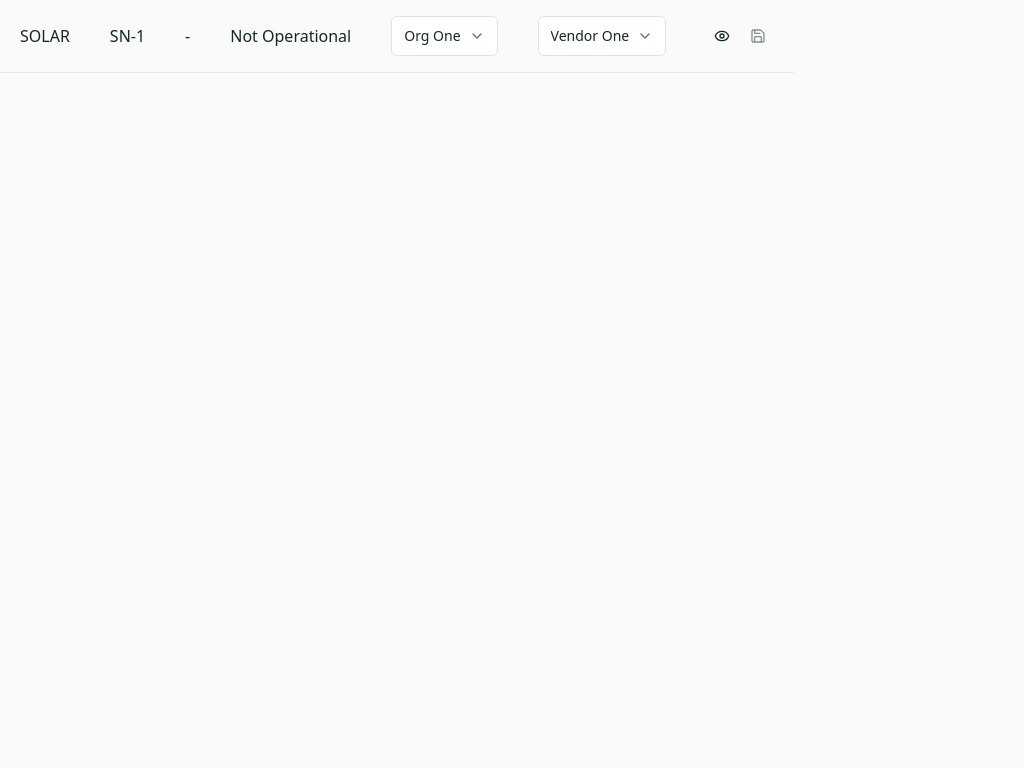
Test: AssetRow › switching the organization clears the drafted vendor selection and loads the new org's own vendors
Click the button with aria-label "Vendor Organization": x=444, y=36 x1=391 y1=16 x2=498 y2=56
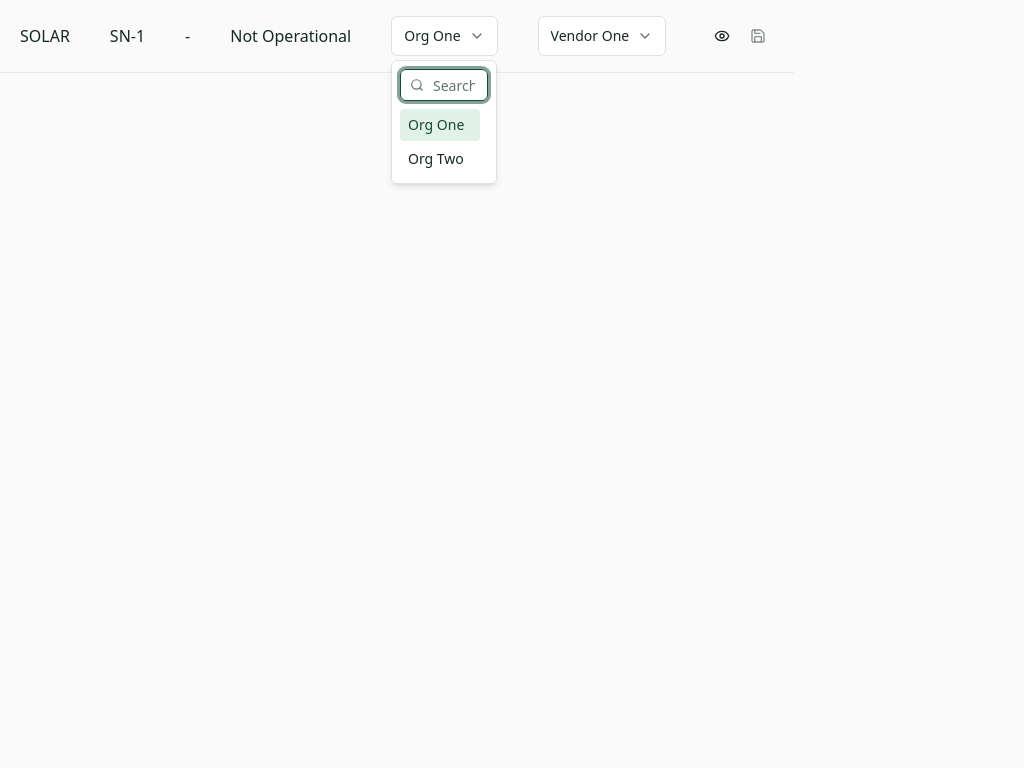
Click the button "Org Two": x=440, y=159 x1=400 y1=143 x2=480 y2=175
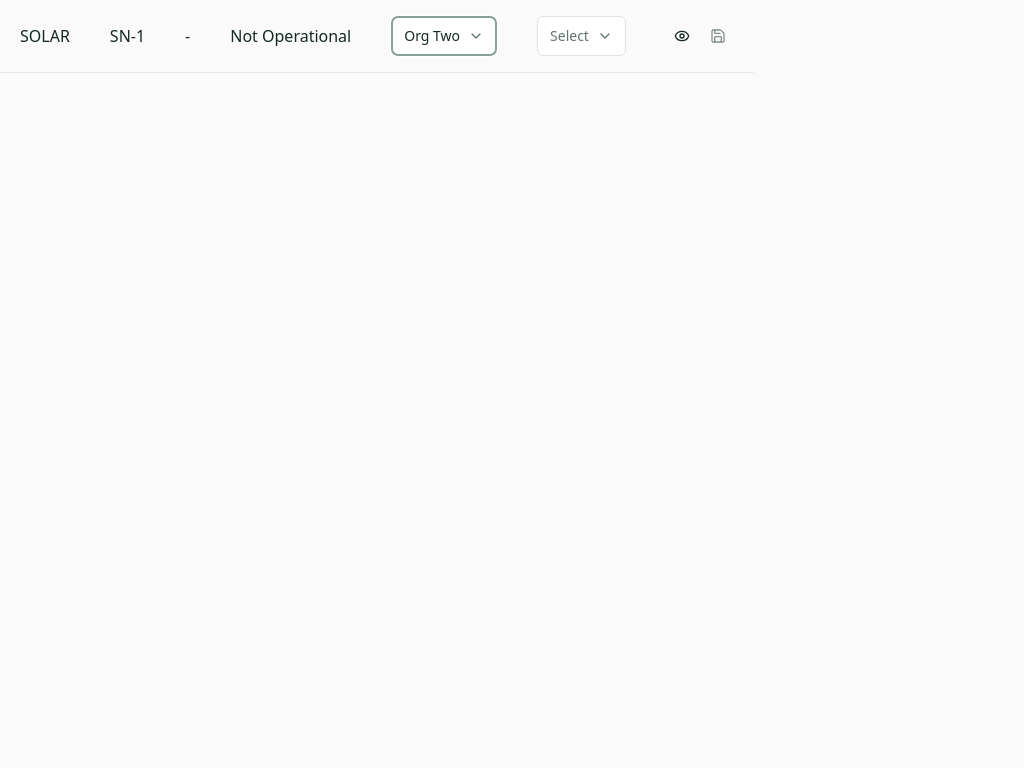
Expected: the button named "Save" is disabled, x1=702 y1=20 x2=734 y2=52
Result: the button with aria-label "Vendor," no longer shows "Vendor One"
Click the button with aria-label "Vendor,": x=581, y=36 x1=537 y1=16 x2=626 y2=56
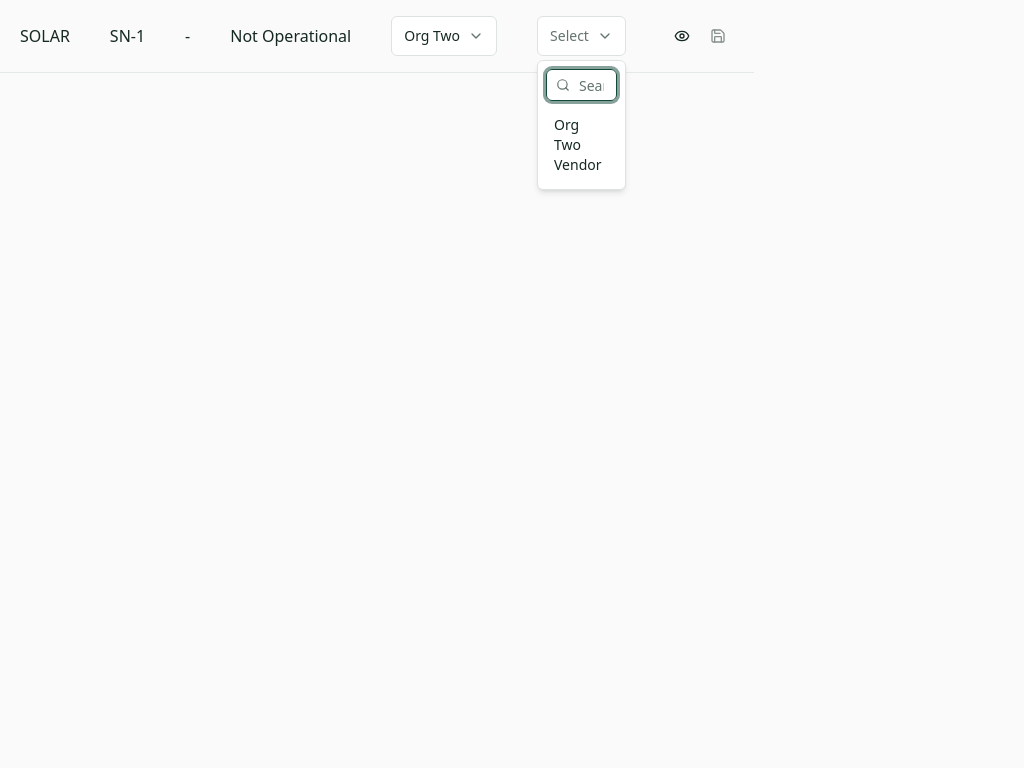
Result: the button "Org Two Vendor" is shown at x1=546 y1=109 x2=609 y2=181
